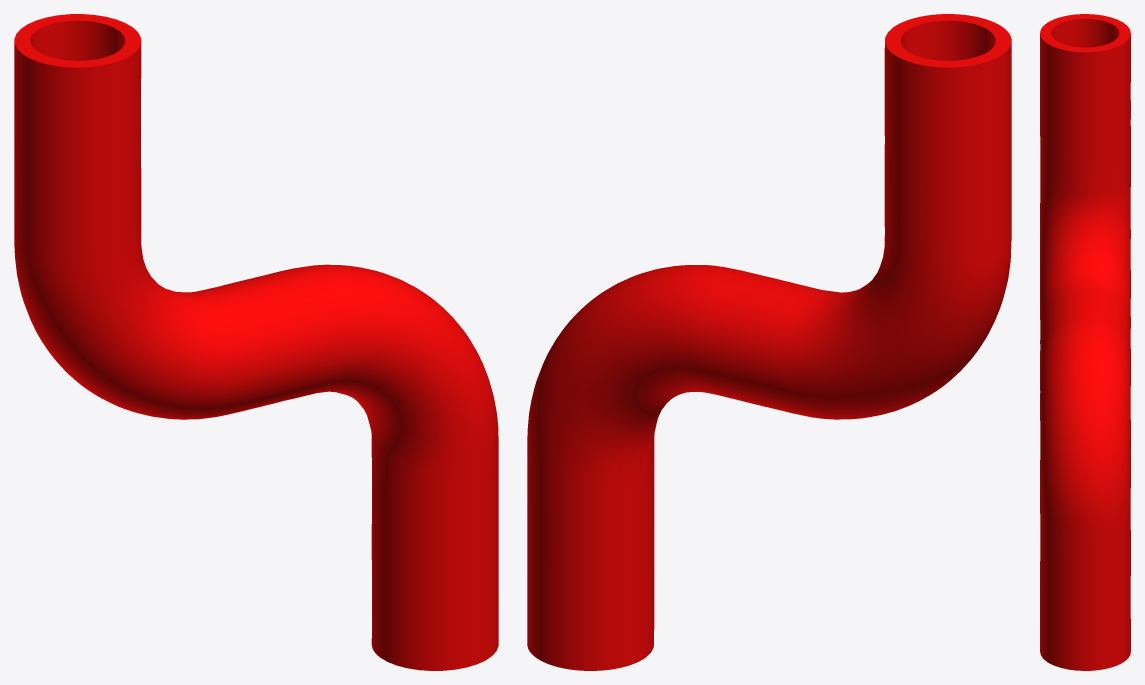
File: serial_test_example_fn_std-solid-appearance8_output.glb
The picture shows the model from 3 angles, left to right: view 1: azimuth 30°, elevation 25°; view 2: azimuth 150°, elevation 25°; view 3: azimuth 270°, elevation 25°; orthographic projection. The views are drawn at different scales.
Bounding box in the file's own units: 0.017 × 0.024 × 0.004.
